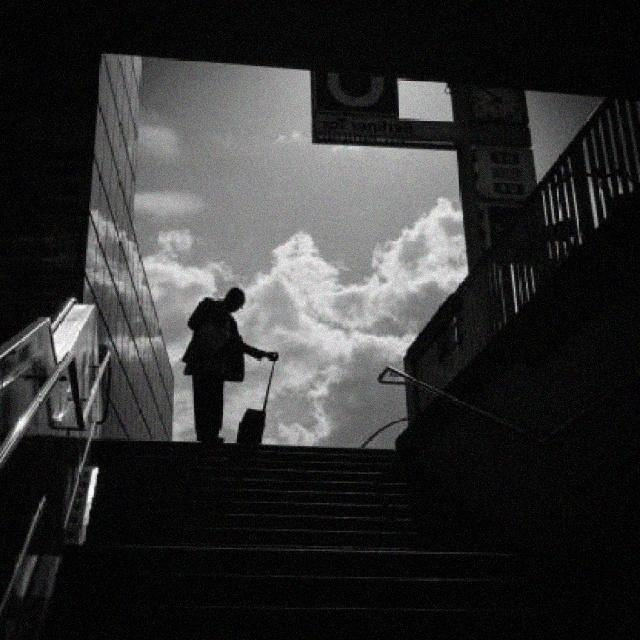stair: (42, 440, 524, 640)
